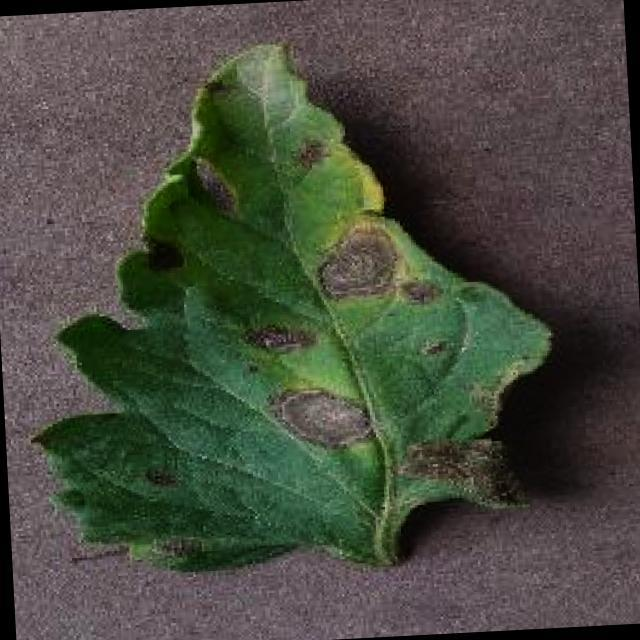Tomato Early blight leaf: (12, 26, 574, 592)
